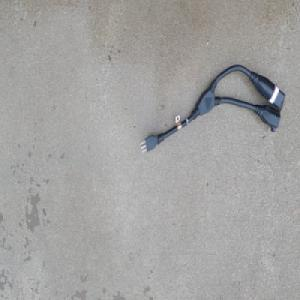Wire: (139, 62, 286, 155)
